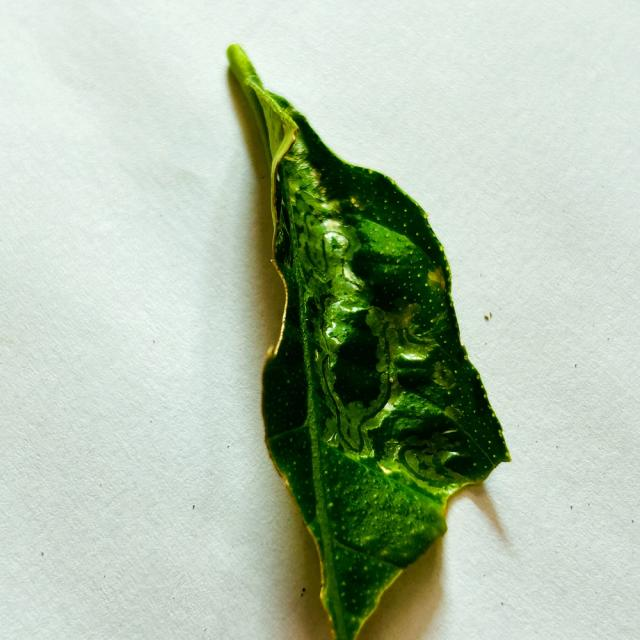Deficiency Leaf: (447, 460, 508, 536)
Lemon: (228, 46, 509, 639)
